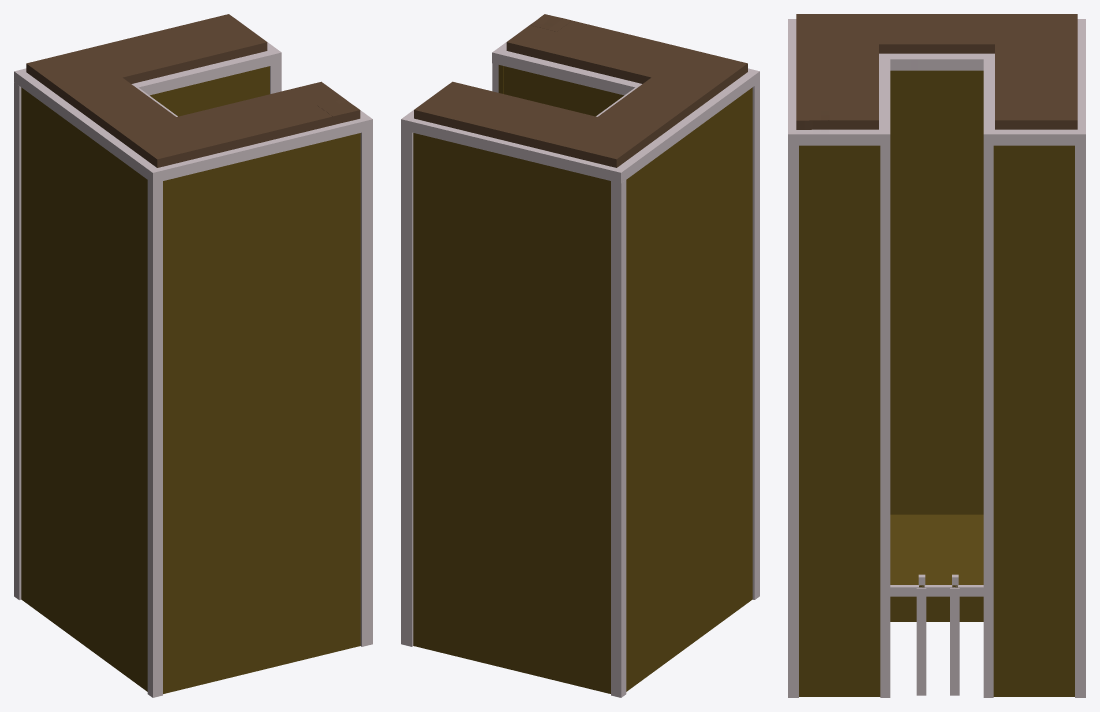
The model's file is legenda.glb.
3 renders of one model, left to right at view 1: azimuth 30°, elevation 25°; view 2: azimuth 150°, elevation 25°; view 3: azimuth 270°, elevation 25°, orthographic. The views are drawn at different scales.
Parts seen in each view (by area): view 1: Cube.001; view 2: Cube.001; view 3: Cube.001.
Boxes of the visible parts, x1=… form: Cube.001: x1=14, y1=14, x2=372, y2=697; Cube.001: x1=401, y1=14, x2=759, y2=697; Cube.001: x1=788, y1=14, x2=1085, y2=697.
Size of the model in its own units: 5.62 by 13.03 by 6.13.
